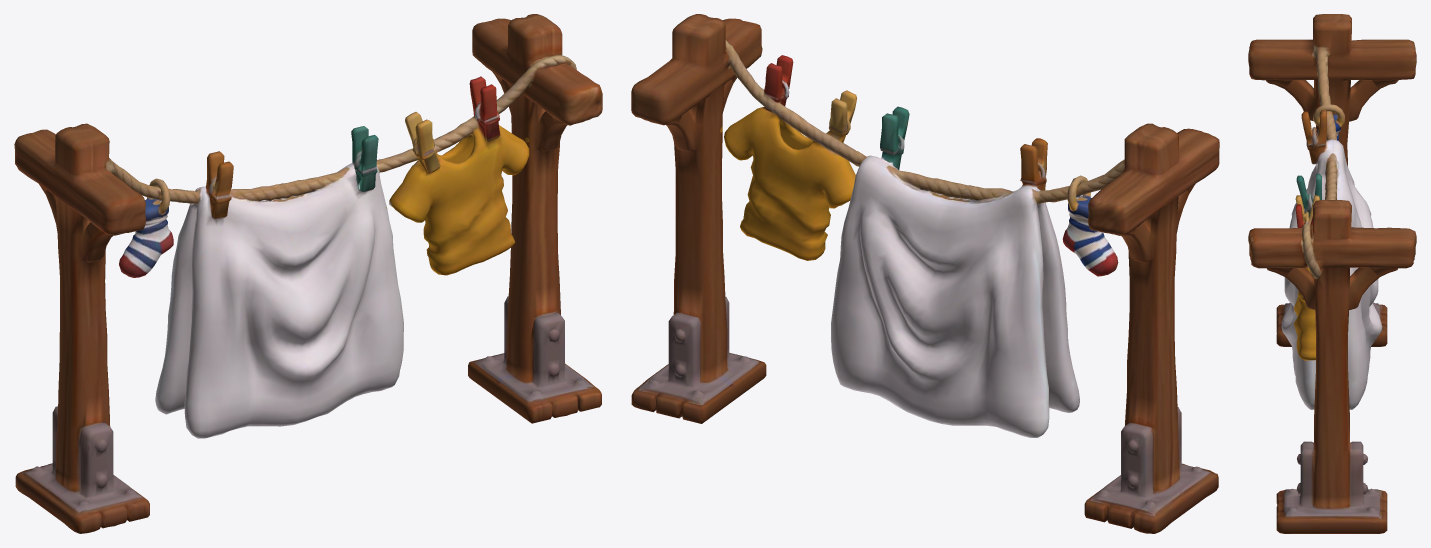
Rendered from laundry.glb.
3 views of the same model, side by side, from view 1: azimuth 30°, elevation 25°; view 2: azimuth 150°, elevation 25°; view 3: azimuth 270°, elevation 25° (orthographic). The views are drawn at different scales.
Parts seen in each view (by area): view 1: tripo_node_50ed6291-4e38-4e5e-a439-2b1b8b483808; view 2: tripo_node_50ed6291-4e38-4e5e-a439-2b1b8b483808; view 3: tripo_node_50ed6291-4e38-4e5e-a439-2b1b8b483808.
Part boxes in pixels (<box>): tripo_node_50ed6291-4e38-4e5e-a439-2b1b8b483808: <box>14,14,602,533</box>; tripo_node_50ed6291-4e38-4e5e-a439-2b1b8b483808: <box>631,14,1219,533</box>; tripo_node_50ed6291-4e38-4e5e-a439-2b1b8b483808: <box>1248,14,1416,533</box>.
Bounding box in the file's own units: 0.9798 × 0.6615 × 0.3202.
Materials: 1 (1 with a texture image).
